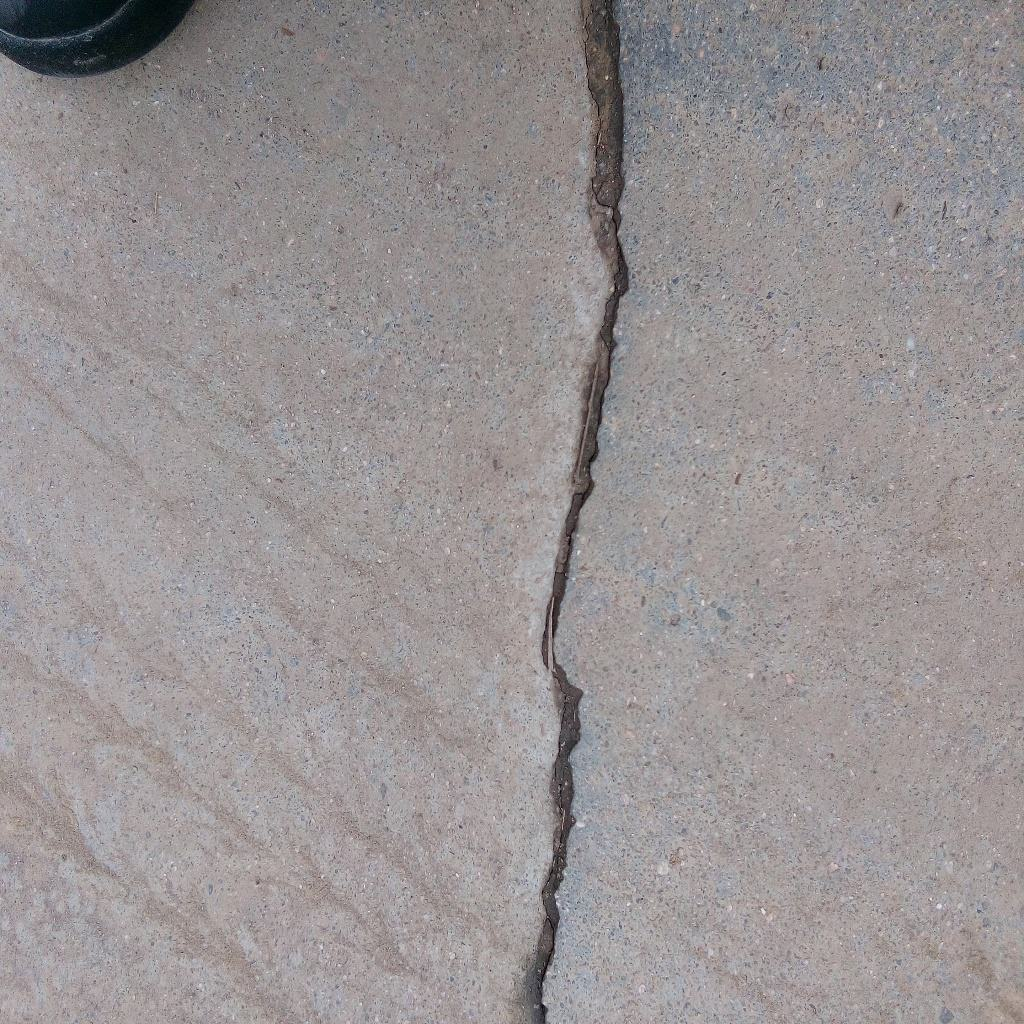Crack: (530, 1, 631, 1024)
